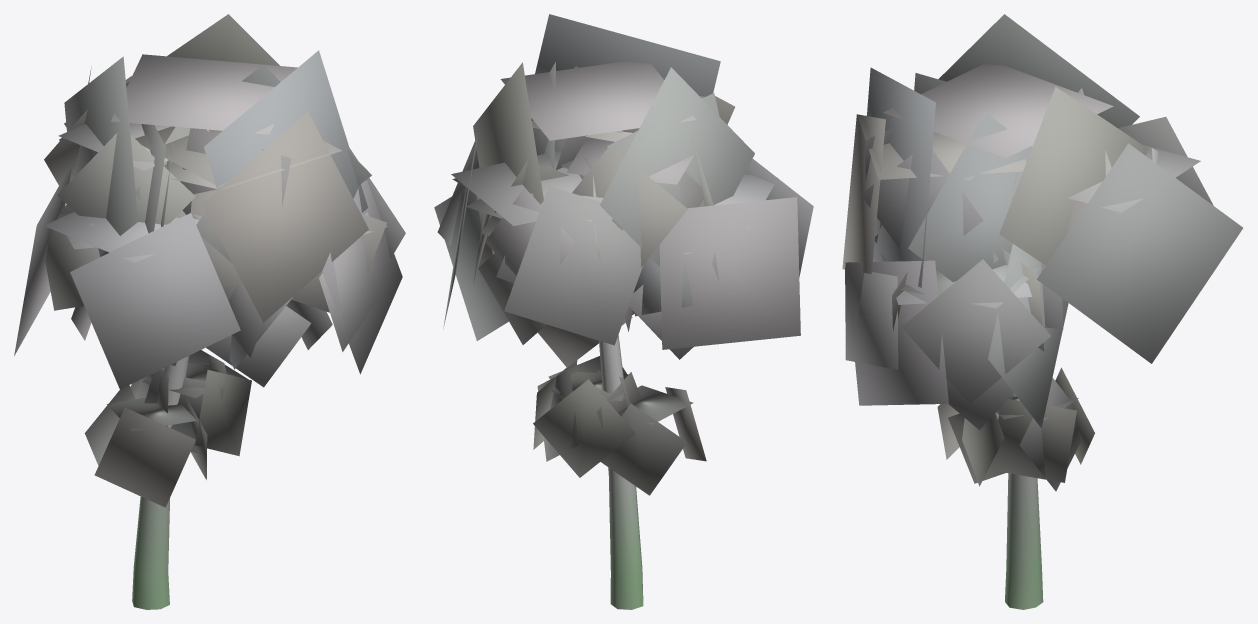
File: jungleC_lod2.glb
3 views of the same model, side by side, from view 1: azimuth 30°, elevation 25°; view 2: azimuth 150°, elevation 25°; view 3: azimuth 270°, elevation 25° (orthographic). The views are drawn at different scales.
Visible parts, largest first — view 1: jungleC_lod2; view 2: jungleC_lod2; view 3: jungleC_lod2.
Boxes of the visible parts, bbox=[...] form: jungleC_lod2: bbox=[14, 14, 405, 609]; jungleC_lod2: bbox=[434, 14, 813, 609]; jungleC_lod2: bbox=[842, 14, 1242, 609].
Bounding box in the file's own units: 20.28 × 28.77 × 18.35.
